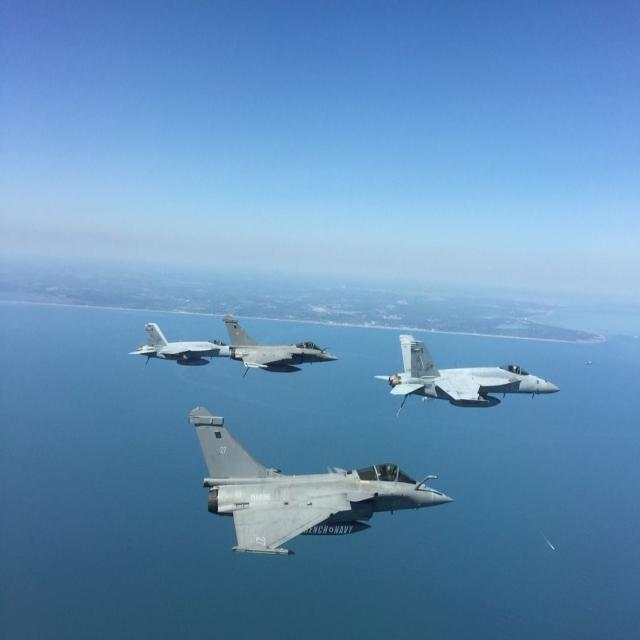MIL_Plane: (188, 405, 455, 556), (374, 334, 560, 419), (222, 315, 339, 379), (128, 322, 232, 372)
